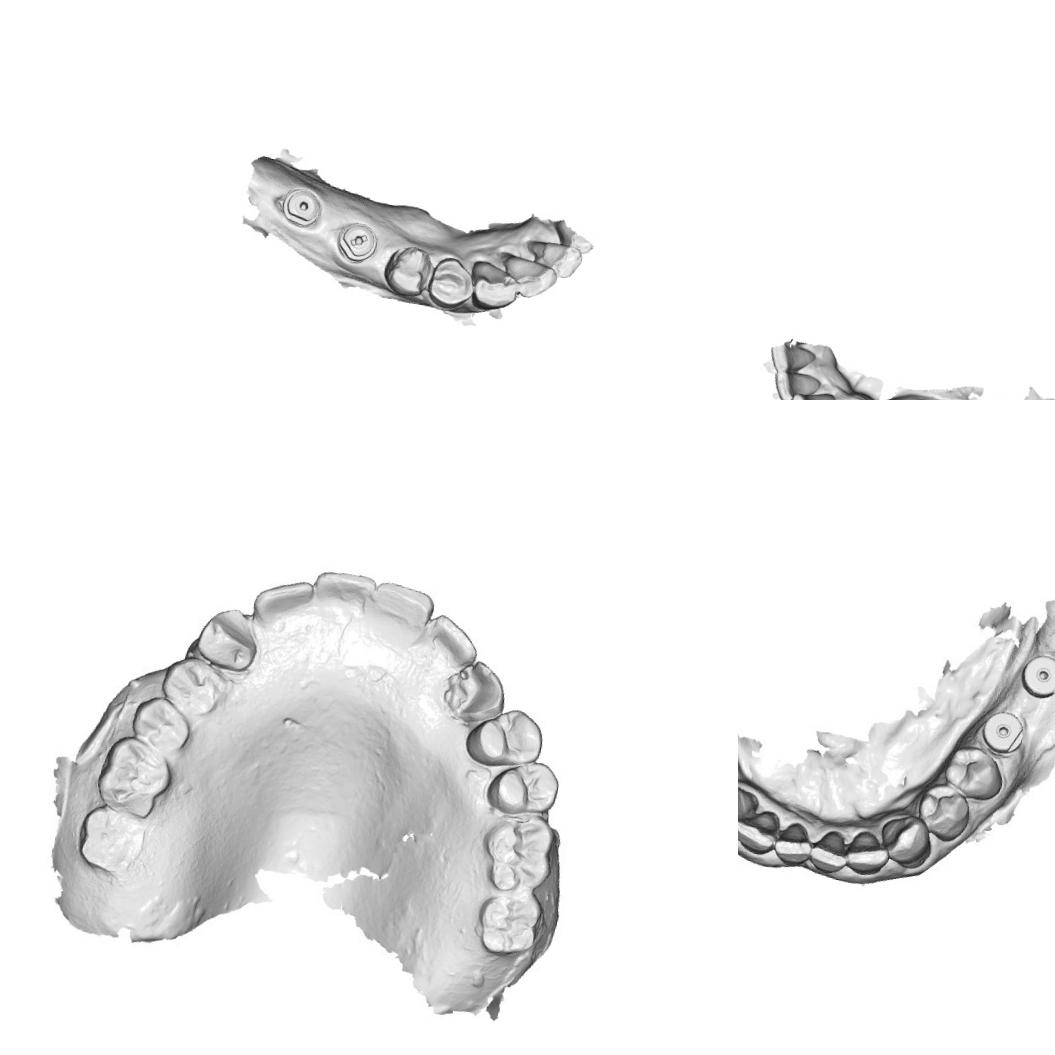canine: (193, 604, 273, 674), (443, 656, 513, 728), (876, 811, 936, 871), (467, 257, 522, 316), (738, 772, 764, 838)
implant: (278, 182, 328, 231), (1016, 647, 1055, 705), (979, 708, 1026, 754)
implant_minus: (331, 216, 381, 268)
incisor: (368, 580, 436, 644), (497, 248, 560, 302), (312, 566, 375, 616), (521, 235, 586, 282), (254, 577, 316, 626), (422, 616, 478, 668), (738, 805, 782, 858), (766, 338, 818, 378), (810, 822, 852, 871), (846, 828, 886, 873), (774, 817, 813, 863), (769, 368, 823, 400), (786, 386, 837, 400)
molar: (480, 811, 556, 893), (95, 736, 170, 814), (472, 888, 540, 962), (78, 805, 146, 871)
premolar: (484, 756, 563, 820), (942, 742, 1008, 807), (158, 652, 224, 716), (474, 707, 540, 765), (917, 781, 974, 843), (378, 240, 434, 302), (132, 694, 190, 752), (426, 252, 476, 312)
